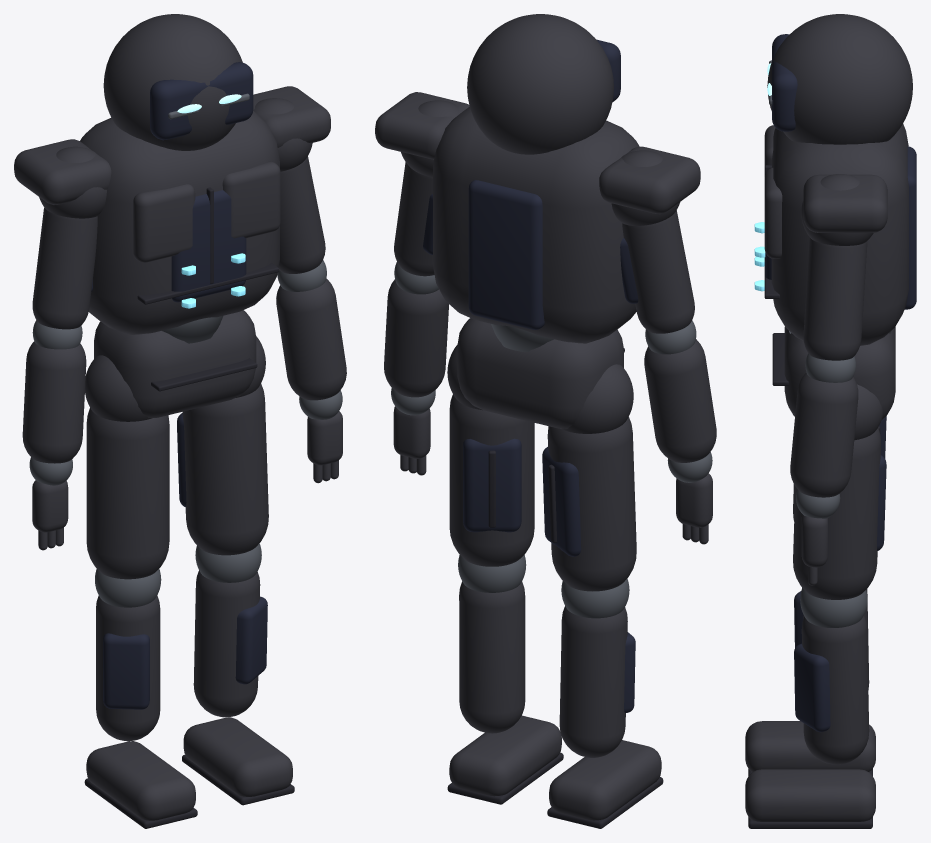
Rendered from neobot.glb.
The picture shows the model from 3 angles, left to right: view 1: azimuth 30°, elevation 25°; view 2: azimuth 150°, elevation 25°; view 3: azimuth 270°, elevation 25°; orthographic projection. The views are drawn at different scales.
Visible parts, largest first — view 1: ChestHull, UpperLeg_L, UpperLeg_R, Cranium, Pelvis, LowerLeg_R, ForeArm_L, ForeArm_R, UpperArm_L, Foot_L, Foot_R, LowerLeg_L (+26 smaller); view 2: ChestHull, Cranium, Pelvis, UpperLeg_L, SpinePlate, LowerLeg_R, LowerLeg_L, UpperLeg_R, ForeArm_L, ForeArm_R, UpperArm_L, Foot_R (+23 smaller); view 3: ChestHull, Cranium, UpperLeg_R, ForeArm_R, LowerLeg_R, Foot_R, UpperArm_R, Pauldron_R, Foot_L, Pelvis, ShinPlate_R, Knee_R (+13 smaller).
Part boxes in pixels (x1,y1,x2,y2): ChestHull: [80, 111, 279, 334]; UpperLeg_L: [86, 408, 169, 579]; UpperLeg_R: [182, 383, 268, 555]; Cranium: [103, 14, 242, 150]; Pelvis: [94, 310, 256, 417]; LowerLeg_R: [193, 570, 260, 717]; ForeArm_L: [22, 341, 86, 463]; ForeArm_R: [276, 278, 346, 400]; UpperArm_L: [32, 207, 97, 329]; Foot_L: [86, 741, 195, 820]; Foot_R: [183, 717, 292, 796]; LowerLeg_L: [96, 595, 160, 741]; ChestHull: [433, 107, 639, 343]; Cranium: [467, 14, 613, 154]; Pelvis: [457, 318, 623, 428]; UpperLeg_L: [547, 417, 636, 591]; SpinePlate: [468, 180, 544, 329]; LowerLeg_R: [459, 581, 525, 733]; LowerLeg_L: [559, 606, 627, 757]; UpperLeg_R: [449, 394, 534, 566]; ForeArm_L: [644, 339, 716, 462]; ForeArm_R: [384, 279, 448, 397]; UpperArm_L: [622, 210, 694, 333]; Foot_R: [449, 715, 561, 796]; ChestHull: [771, 124, 908, 345]; Cranium: [767, 14, 912, 144]; UpperLeg_R: [793, 427, 881, 599]; ForeArm_R: [790, 372, 858, 497]; LowerLeg_R: [801, 615, 869, 764]; Foot_R: [745, 769, 875, 821]; UpperArm_R: [803, 237, 867, 360]; Pauldron_R: [803, 174, 887, 232]; Foot_L: [745, 721, 875, 771]; Pelvis: [784, 326, 895, 420]; ShinPlate_R: [794, 643, 830, 732]; Knee_R: [800, 588, 867, 627].
Size of the model in its own units: 0.7033 by 1.61 by 0.325.
